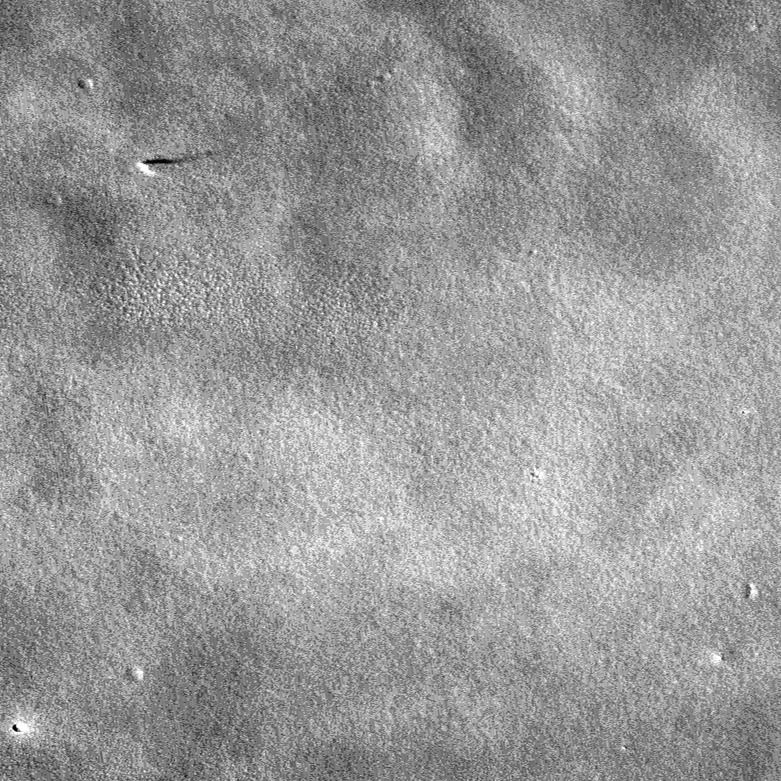dust_devil: (134, 154, 196, 177)
